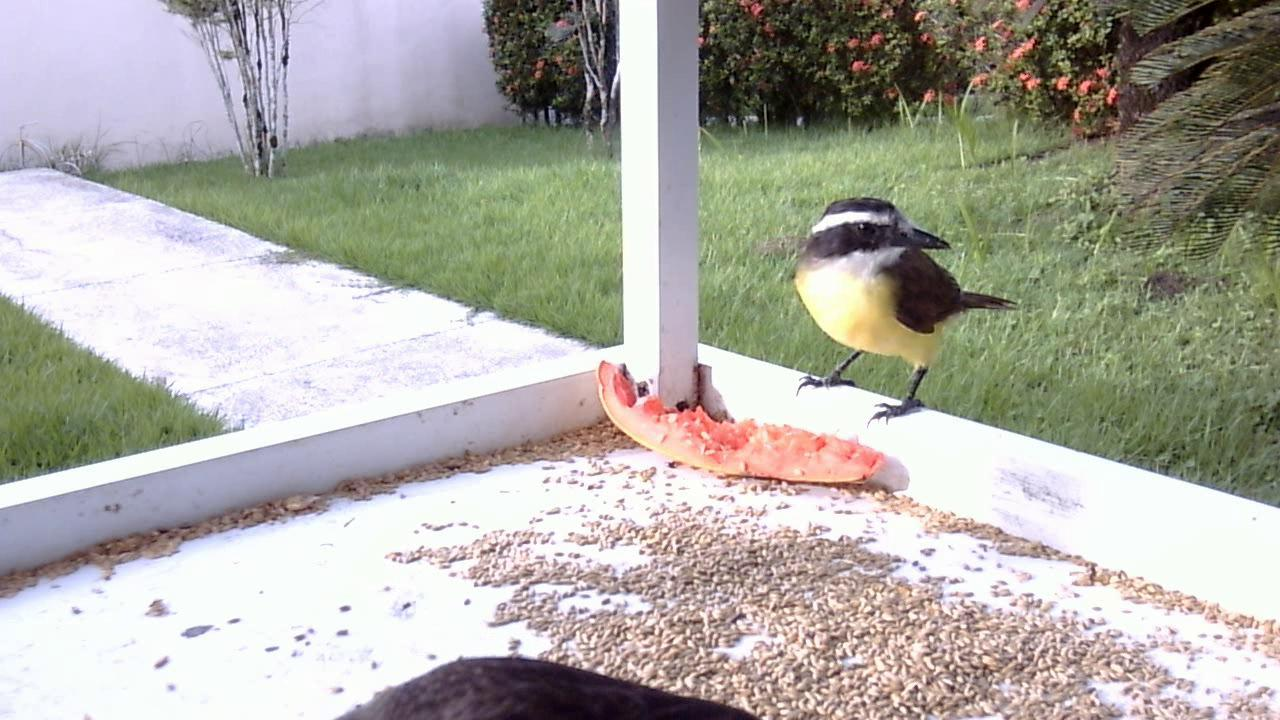bem_te_vi: (781, 190, 1022, 441)
